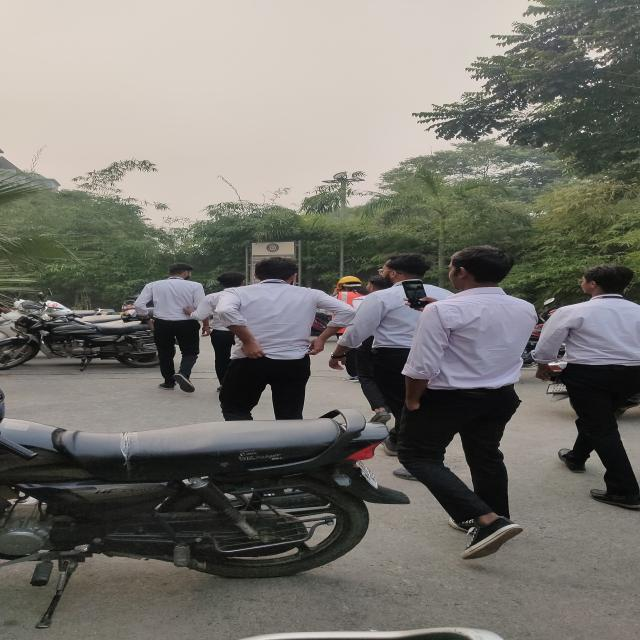unsafe: (405, 244, 539, 493), (548, 263, 640, 483), (219, 258, 327, 422), (138, 264, 207, 396)
